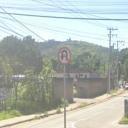NoVirarU: (57, 46, 72, 66)
